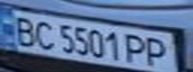0: (87, 27, 106, 60)
1: (103, 28, 124, 61)
5: (54, 21, 75, 55), (69, 25, 90, 56)
B: (6, 14, 42, 47)
C: (30, 18, 57, 51)
P: (142, 35, 175, 69), (121, 32, 151, 65)
